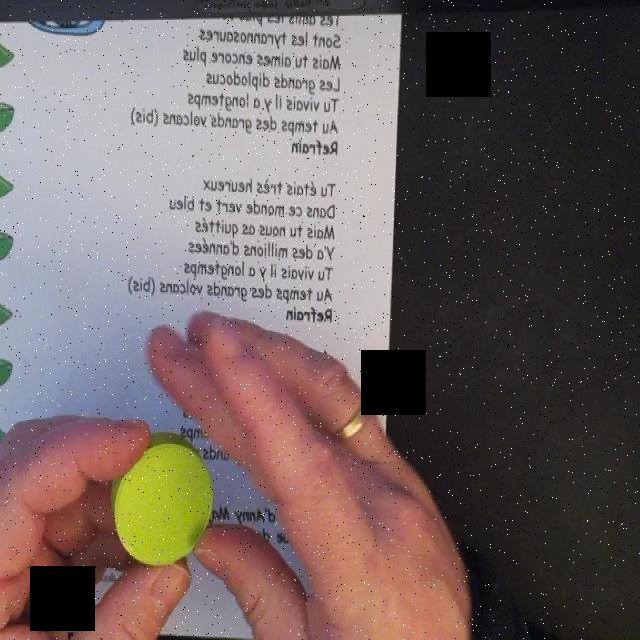round: (113, 434, 215, 569)
